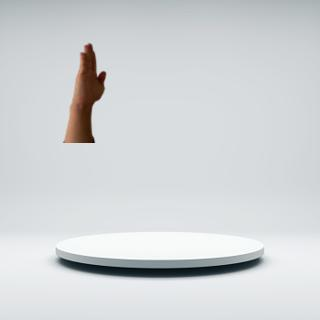RIGHT: (67, 38, 112, 114)
